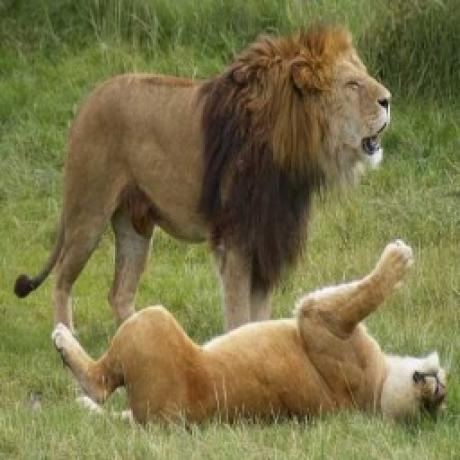Lion: (14, 19, 393, 333), (50, 239, 454, 432)
